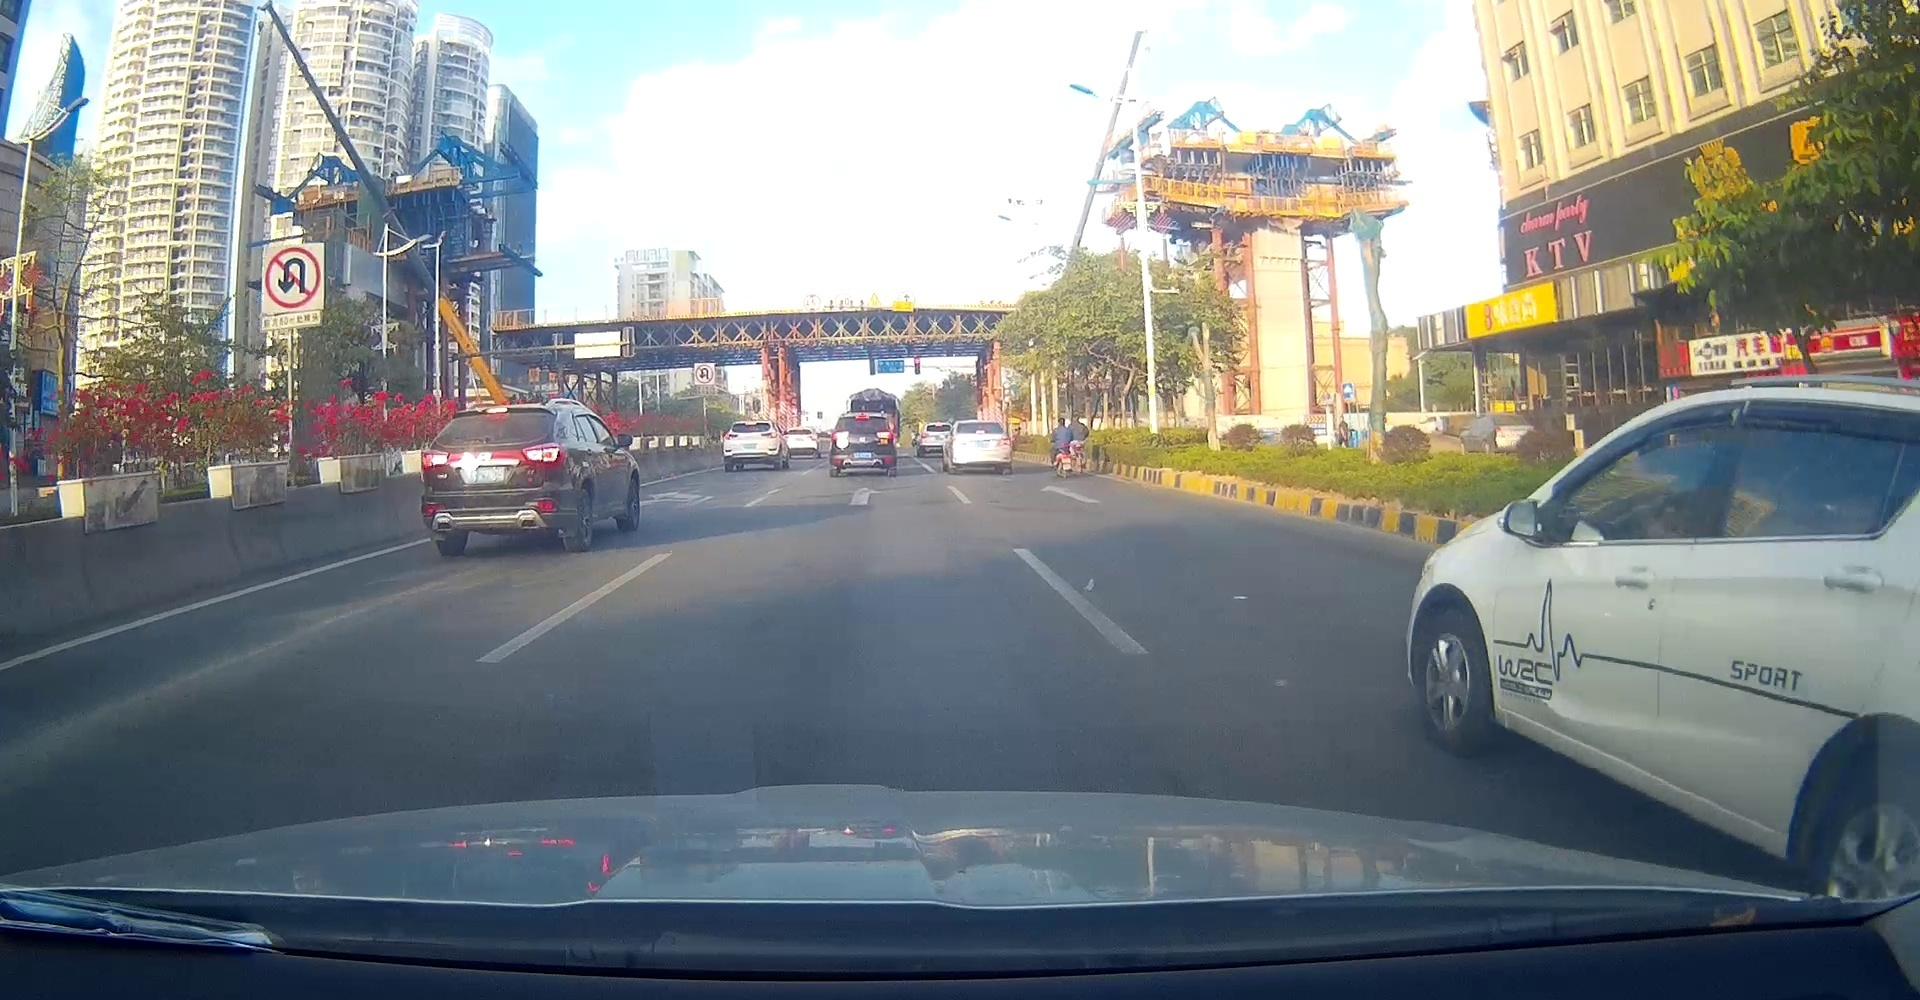L_light: (420, 451, 450, 470), (832, 431, 848, 440), (994, 438, 1011, 445), (951, 438, 966, 445), (725, 433, 739, 440)
R_light: (522, 442, 566, 466), (875, 431, 897, 440), (761, 431, 777, 438)
T_light: (484, 407, 508, 414), (855, 415, 870, 420), (745, 423, 756, 425), (975, 430, 985, 433)
day-brake: (420, 404, 569, 556), (829, 412, 897, 478), (950, 420, 1012, 476), (723, 420, 777, 472)
